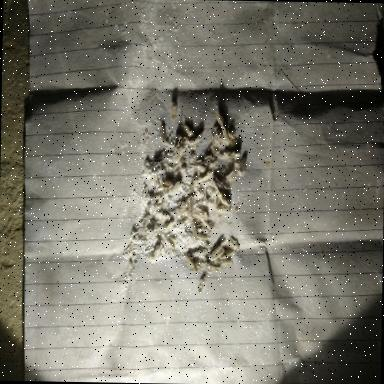pbw: (212, 176, 232, 194), (208, 245, 225, 262), (184, 254, 198, 274), (183, 195, 194, 220), (212, 256, 234, 268), (201, 258, 224, 269), (180, 122, 195, 138), (226, 126, 238, 146), (191, 129, 206, 145), (217, 192, 231, 208), (192, 207, 208, 221), (173, 146, 185, 164), (225, 236, 239, 251), (157, 123, 166, 145), (163, 234, 177, 248), (225, 168, 237, 184), (220, 249, 234, 262), (216, 112, 226, 130), (188, 175, 198, 193), (214, 204, 231, 214), (170, 100, 177, 124), (170, 180, 182, 194), (152, 244, 161, 262), (198, 274, 206, 294), (222, 126, 230, 146), (174, 134, 190, 144), (146, 200, 154, 220), (238, 157, 246, 177), (160, 178, 174, 189), (174, 207, 188, 218), (200, 218, 212, 230), (198, 237, 210, 249), (191, 220, 198, 240), (164, 220, 174, 234), (156, 195, 164, 212), (178, 200, 188, 213), (142, 228, 154, 238), (150, 220, 160, 231), (196, 232, 208, 241), (154, 171, 160, 188), (144, 214, 150, 229), (150, 192, 161, 200), (198, 174, 208, 182)
